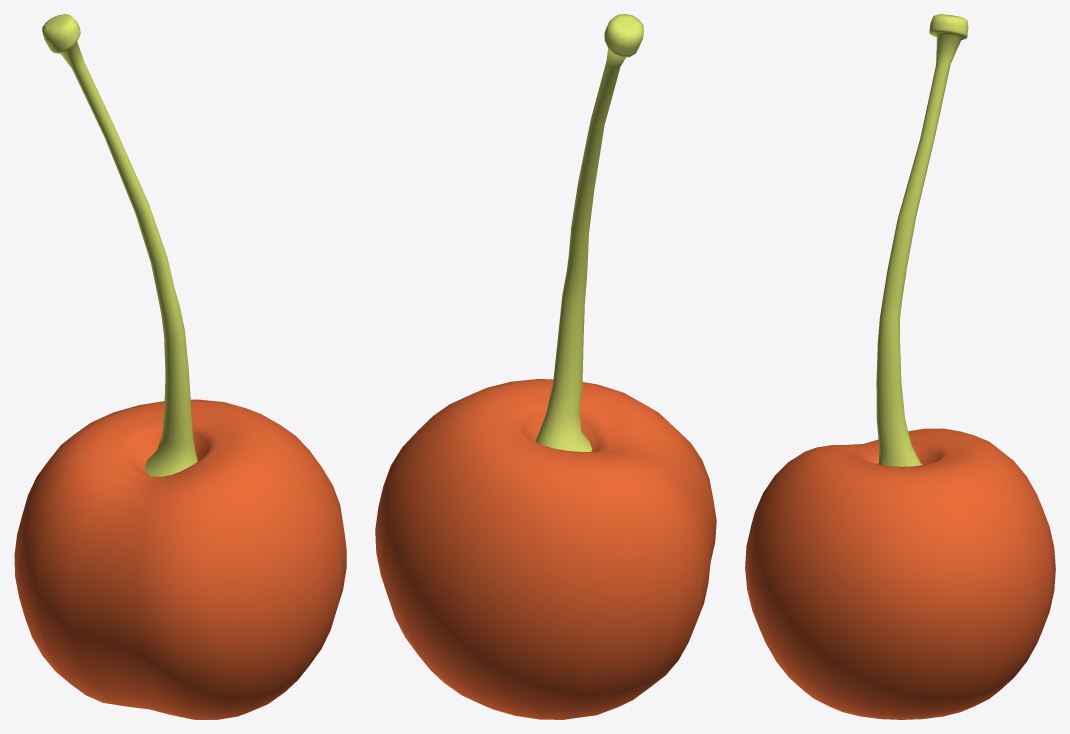
The model's file is Cherry.fbx.
3 views of the same model, side by side, from view 1: azimuth 30°, elevation 25°; view 2: azimuth 150°, elevation 25°; view 3: azimuth 270°, elevation 25° (orthographic). The views are drawn at different scales.
Visible parts, largest first — view 1: pSphere1, pCylinder1; view 2: pSphere1, pCylinder1; view 3: pSphere1, pCylinder1.
Part boxes in pixels (x1=…): pSphere1: x1=14, y1=399, x2=346, y2=719; pCylinder1: x1=42, y1=14, x2=197, y2=476; pSphere1: x1=375, y1=379, x2=716, y2=719; pCylinder1: x1=535, y1=14, x2=643, y2=451; pSphere1: x1=745, y1=428, x2=1055, y2=719; pCylinder1: x1=876, y1=14, x2=968, y2=466.
Size of the model in its own units: 195 by 438 by 193.
